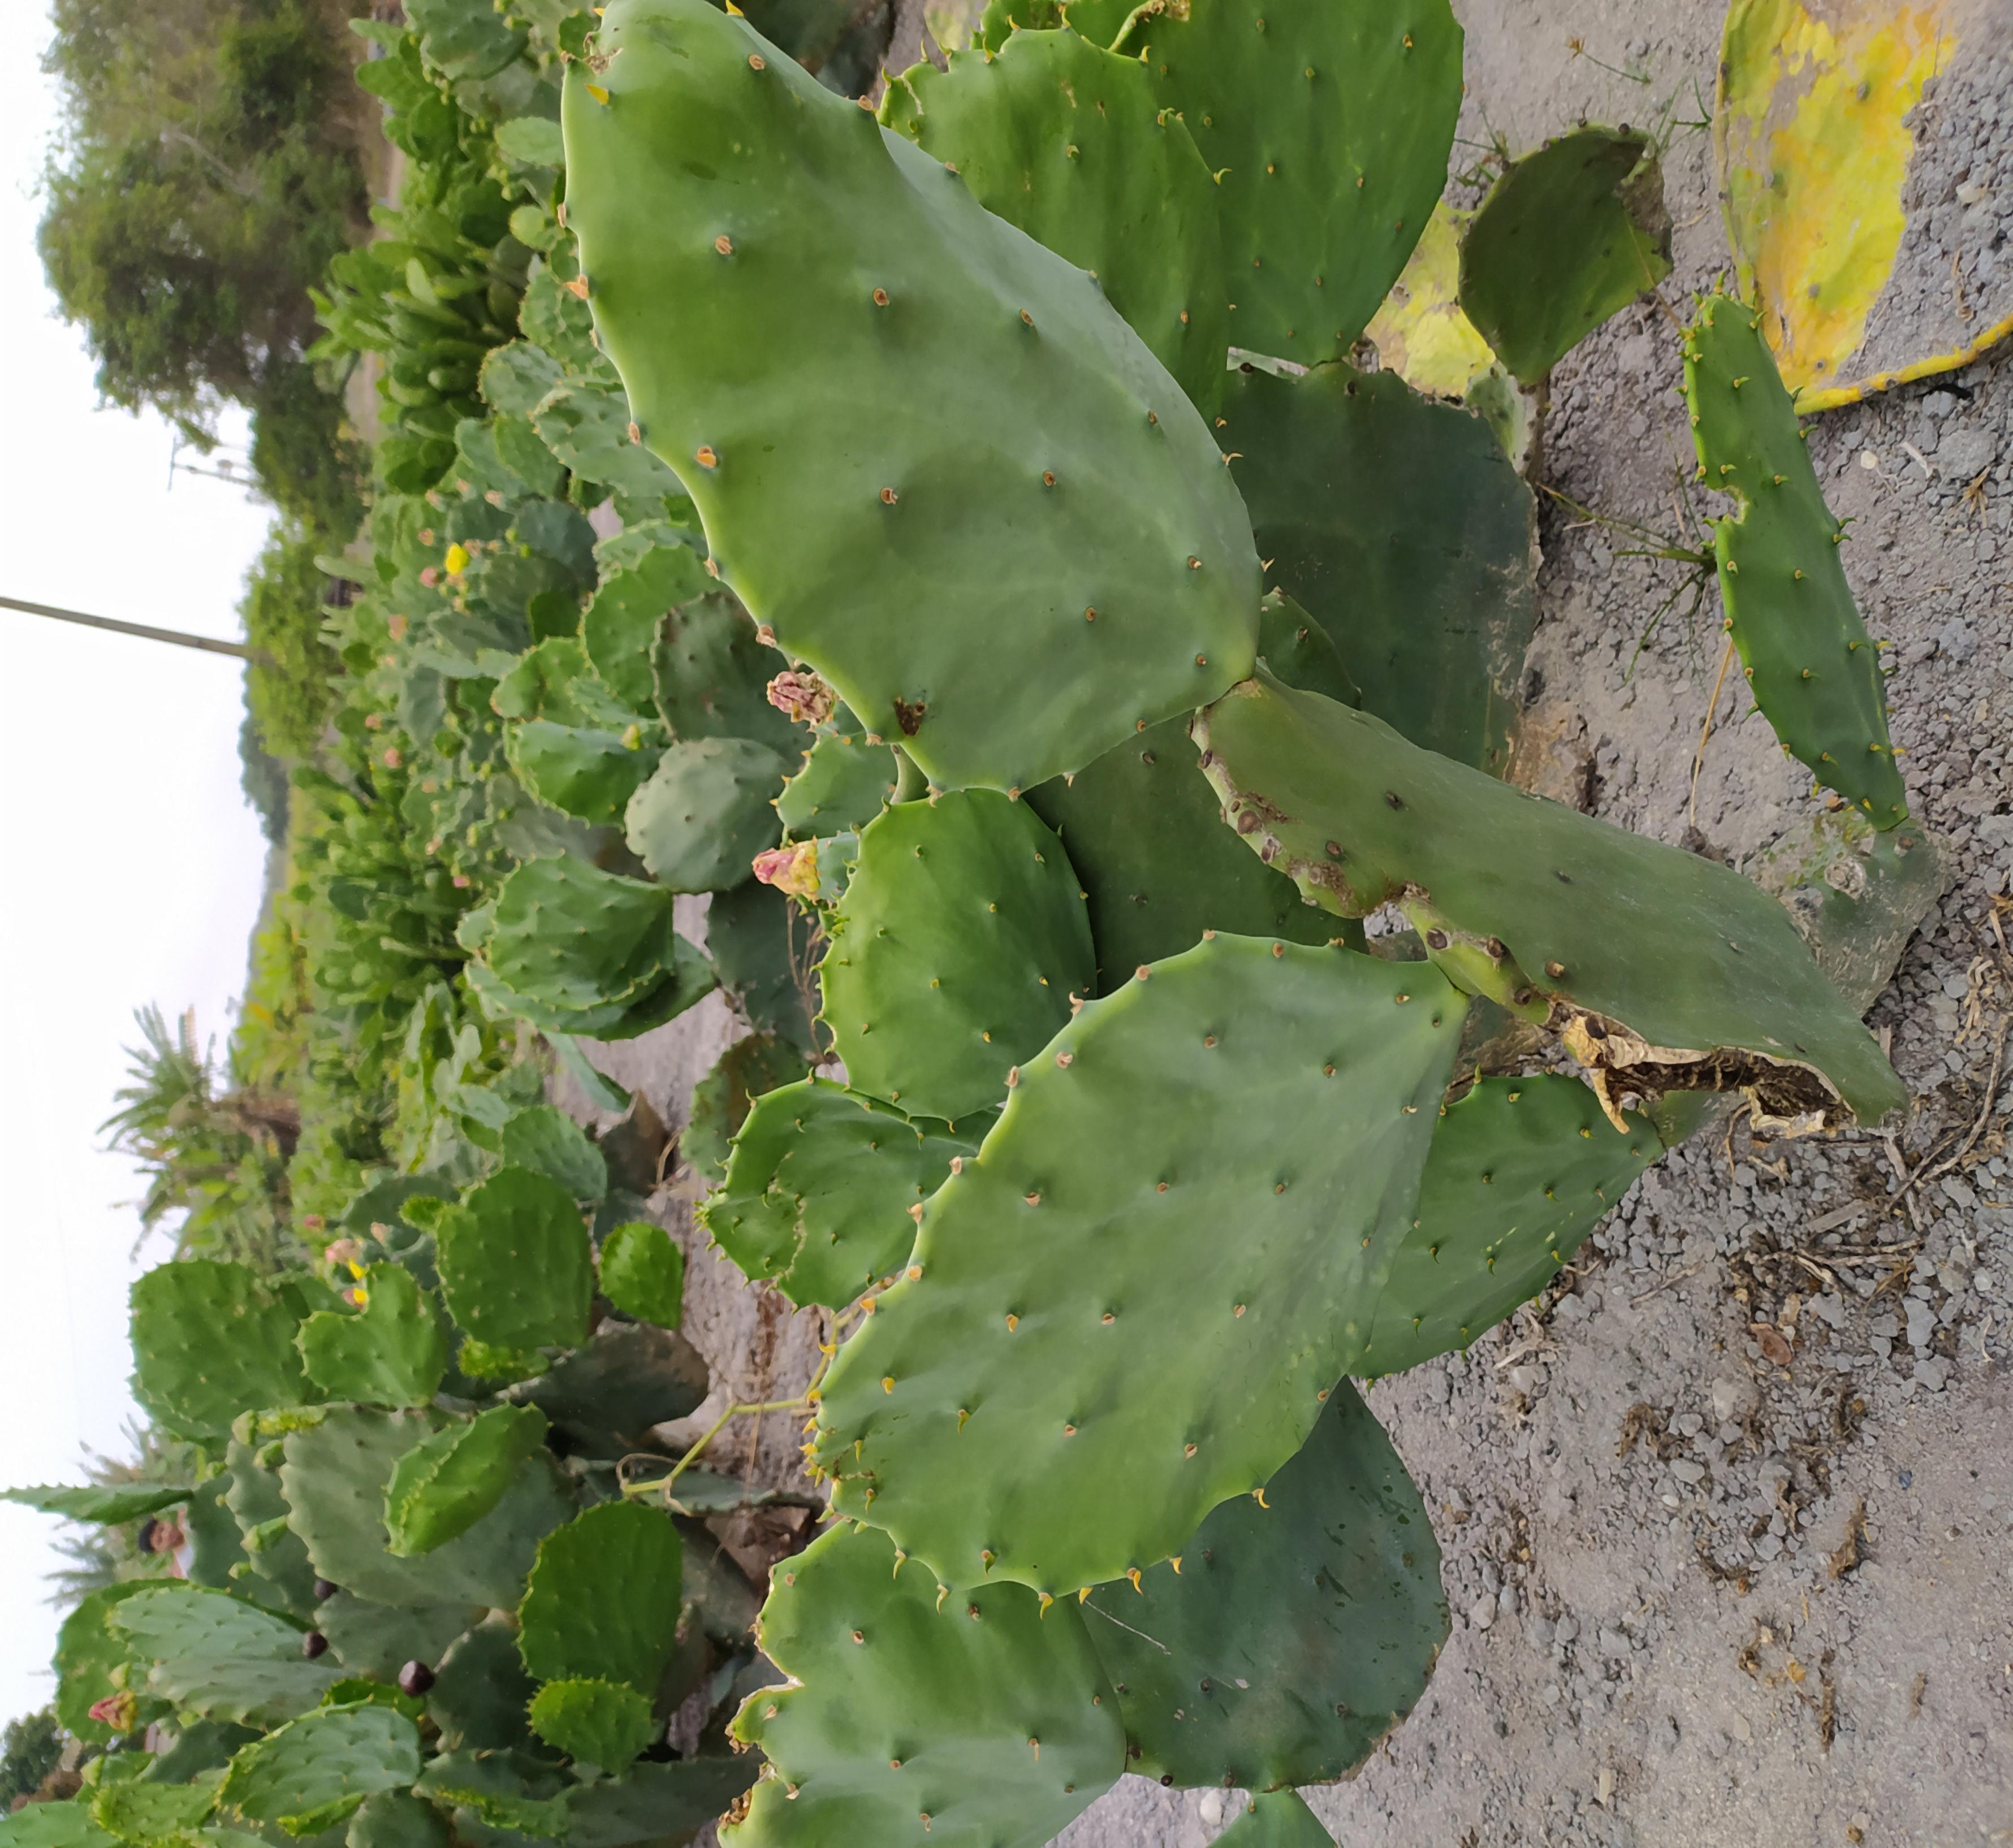impropria: (545, 13, 1282, 750), (1186, 521, 1757, 1092), (1003, 1387, 1422, 1806), (1433, 124, 1688, 379), (426, 1160, 624, 1358), (299, 1258, 448, 1406), (629, 738, 777, 887), (527, 1668, 653, 1794)
propria: (789, 928, 1468, 1607), (743, 1452, 1139, 1848), (1216, 343, 1592, 719), (94, 1224, 327, 1457), (514, 1481, 718, 1685), (476, 837, 671, 1032), (230, 1652, 420, 1842), (97, 1724, 217, 1843)
